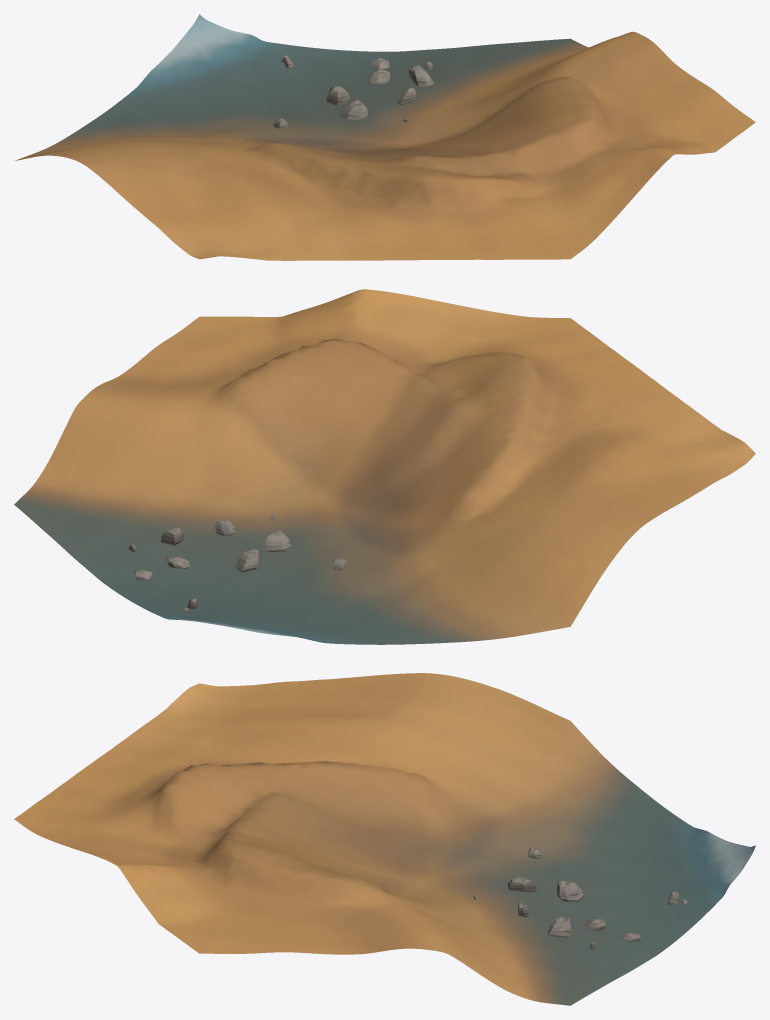
Rendered from costa_+01_-04.glb.
3 renders of one model, top to bottom at view 1: azimuth 30°, elevation 25°; view 2: azimuth 150°, elevation 25°; view 3: azimuth 270°, elevation 25°, orthographic.
Visible parts, largest first — view 1: terrain, Formações costeiras; view 2: terrain, Formações costeiras; view 3: terrain, Formações costeiras.
Boxes of the visible parts, x1=… form: terrain: x1=14, y1=14, x2=755, y2=260; Formações costeiras: x1=273, y1=55, x2=434, y2=128; terrain: x1=14, y1=289, x2=755, y2=644; Formações costeiras: x1=129, y1=514, x2=346, y2=611; terrain: x1=14, y1=673, x2=755, y2=1005; Formações costeiras: x1=473, y1=848, x2=687, y2=949.
Bounding box in the file's own units: 4330 × 689 × 5000.
1 material, 1 textured.
